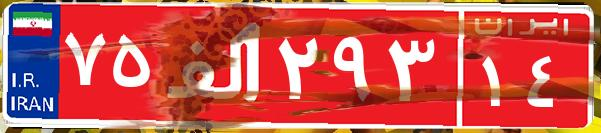1: (475, 38, 525, 113)
2: (273, 28, 330, 110)
3: (385, 28, 445, 110)
4: (525, 38, 570, 115)
5: (110, 28, 158, 105)
7: (57, 26, 110, 107)
9: (330, 28, 385, 110)
الف: (158, 15, 273, 115)
